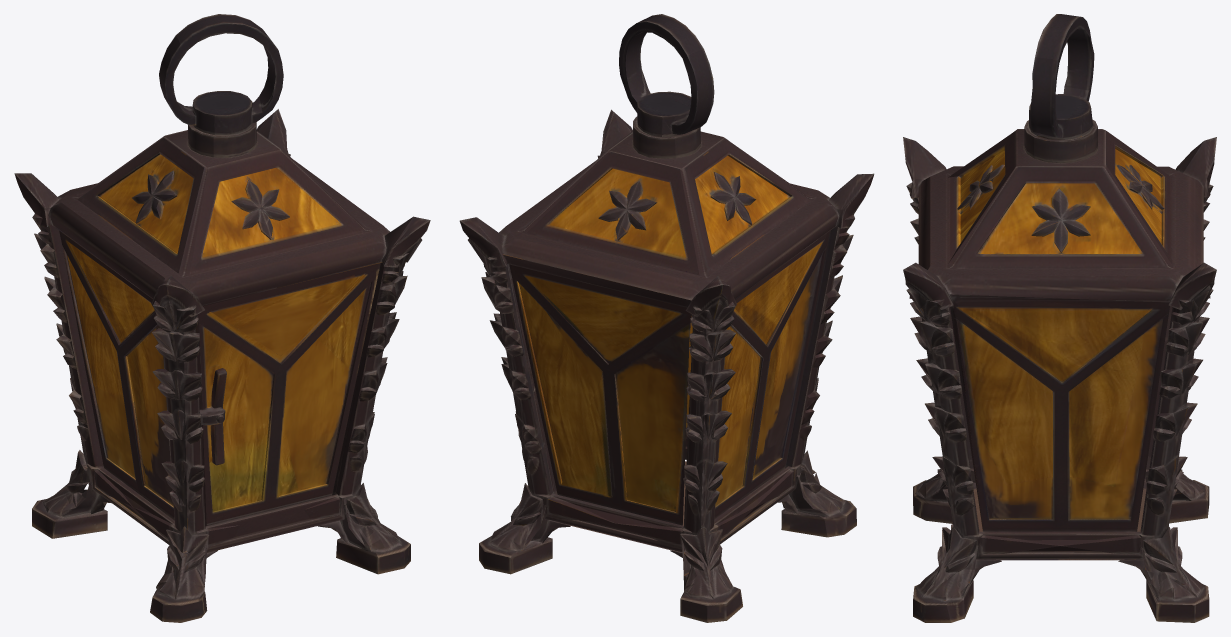
File: bronze_lantern.glb
3 renders of one model, left to right at view 1: azimuth 30°, elevation 25°; view 2: azimuth 150°, elevation 25°; view 3: azimuth 270°, elevation 25°, orthographic. The views are drawn at different scales.
Visible parts, largest first — view 1: Soulbound_Bronze_Lantern; view 2: Soulbound_Bronze_Lantern; view 3: Soulbound_Bronze_Lantern.
Part boxes in pixels (left/top/right/bottom): Soulbound_Bronze_Lantern: left=14, top=14, right=430, bottom=622; Soulbound_Bronze_Lantern: left=459, top=14, right=874, bottom=622; Soulbound_Bronze_Lantern: left=903, top=14, right=1216, bottom=622.
Bounding box in the file's own units: 0.5015 × 0.9512 × 0.5005.
1 material, 1 textured.
